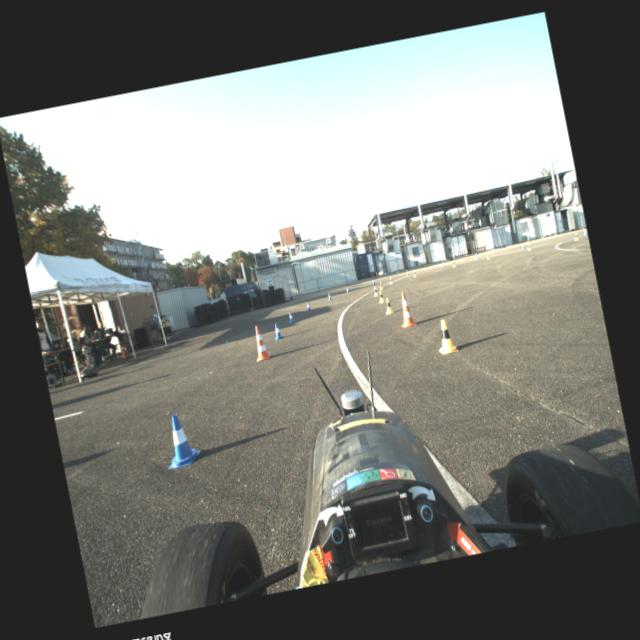blue_cone: (159, 412, 203, 469), (272, 322, 284, 340), (286, 311, 296, 324), (306, 301, 312, 312), (582, 230, 588, 237), (328, 292, 332, 301), (346, 286, 350, 293), (521, 243, 525, 250), (372, 279, 376, 285), (476, 254, 480, 260), (440, 262, 444, 268), (406, 270, 410, 276)
large_orange_cone: (395, 290, 418, 329), (250, 324, 272, 363)
yellow_cone: (432, 317, 460, 356), (383, 297, 395, 315), (377, 290, 386, 304), (372, 286, 379, 298), (573, 232, 580, 241), (526, 242, 532, 252), (378, 281, 384, 290), (389, 276, 394, 284), (412, 270, 417, 278), (486, 252, 490, 260), (452, 261, 456, 268)
